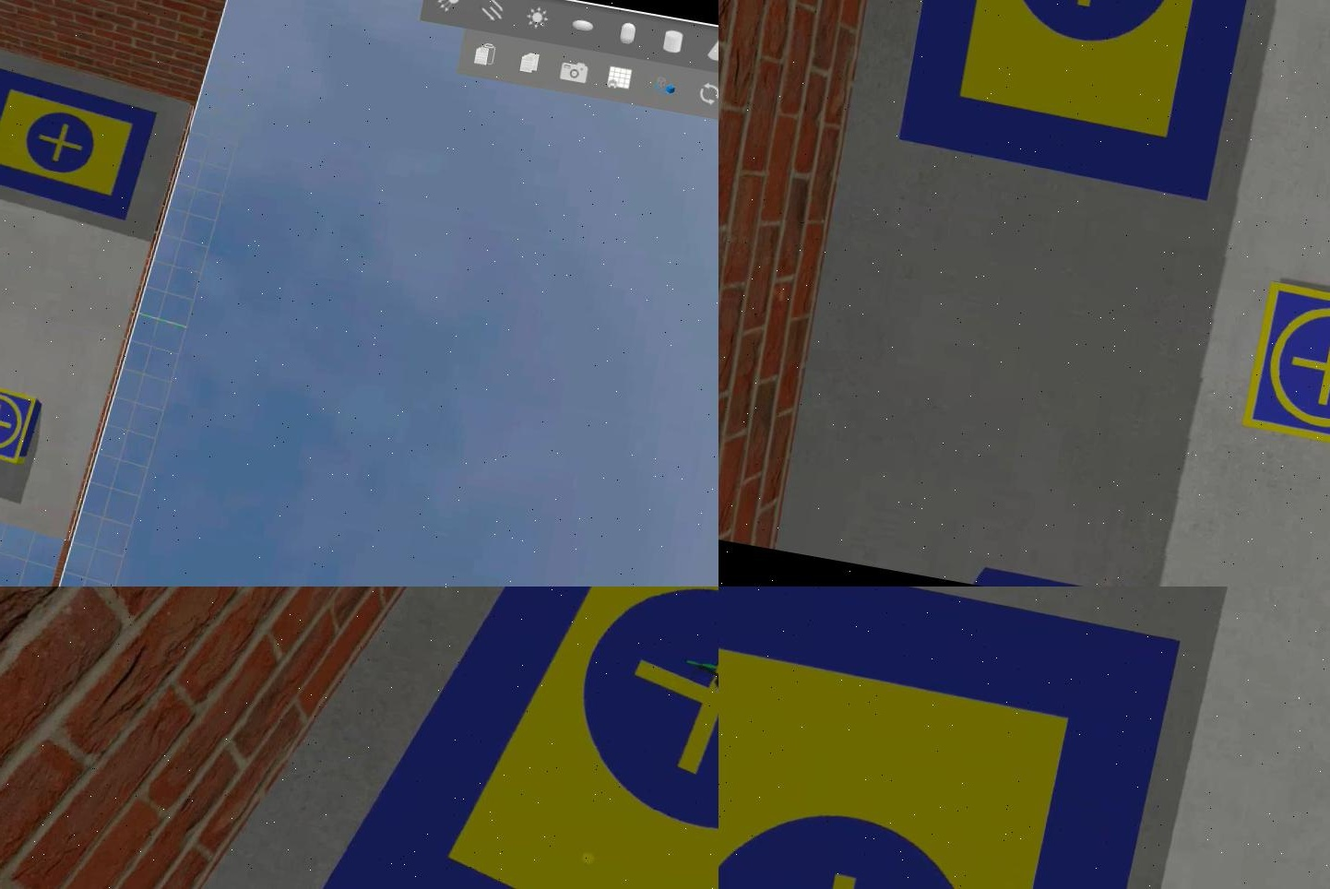large_base: (717, 587, 1184, 889), (281, 587, 717, 889), (894, 1, 1266, 202), (0, 65, 161, 220)
small_base: (1237, 280, 1328, 457), (0, 380, 39, 468)
